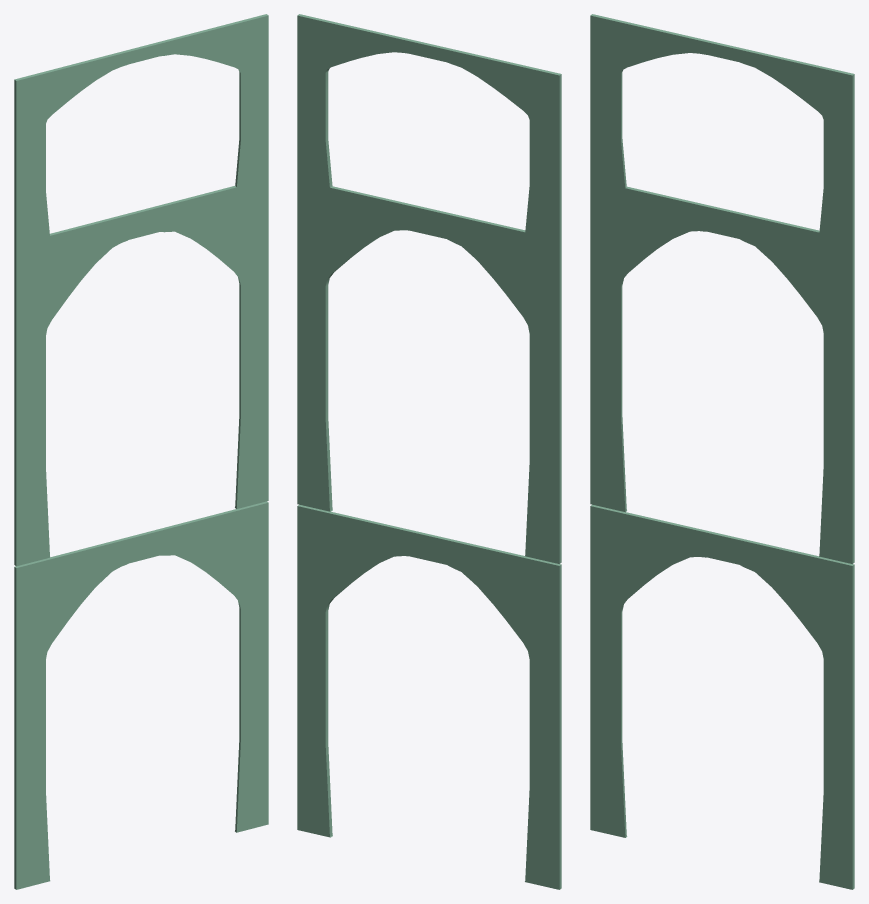
File: archGate_1.fbx
The picture shows the model from 3 angles, left to right: view 1: azimuth 30°, elevation 25°; view 2: azimuth 150°, elevation 25°; view 3: azimuth 330°, elevation 25°; orthographic projection.
Parts seen in each view (by area): view 1: First_Floor, Second_Floor, Third_Floor; view 2: First_Floor, Second_Floor, Third_Floor; view 3: First_Floor, Second_Floor, Third_Floor.
Boxes of the visible parts, box(x1,y1,x2,y2) form: First_Floor: box(14, 501, 268, 889); Second_Floor: box(14, 180, 268, 566); Third_Floor: box(14, 14, 268, 244); First_Floor: box(297, 504, 561, 889); Second_Floor: box(297, 181, 561, 563); Third_Floor: box(297, 14, 561, 240); First_Floor: box(590, 504, 854, 889); Second_Floor: box(590, 181, 854, 563); Third_Floor: box(590, 14, 854, 240).
Bounding box in the file's own units: 15.95 × 48.06 × 0.6643.
